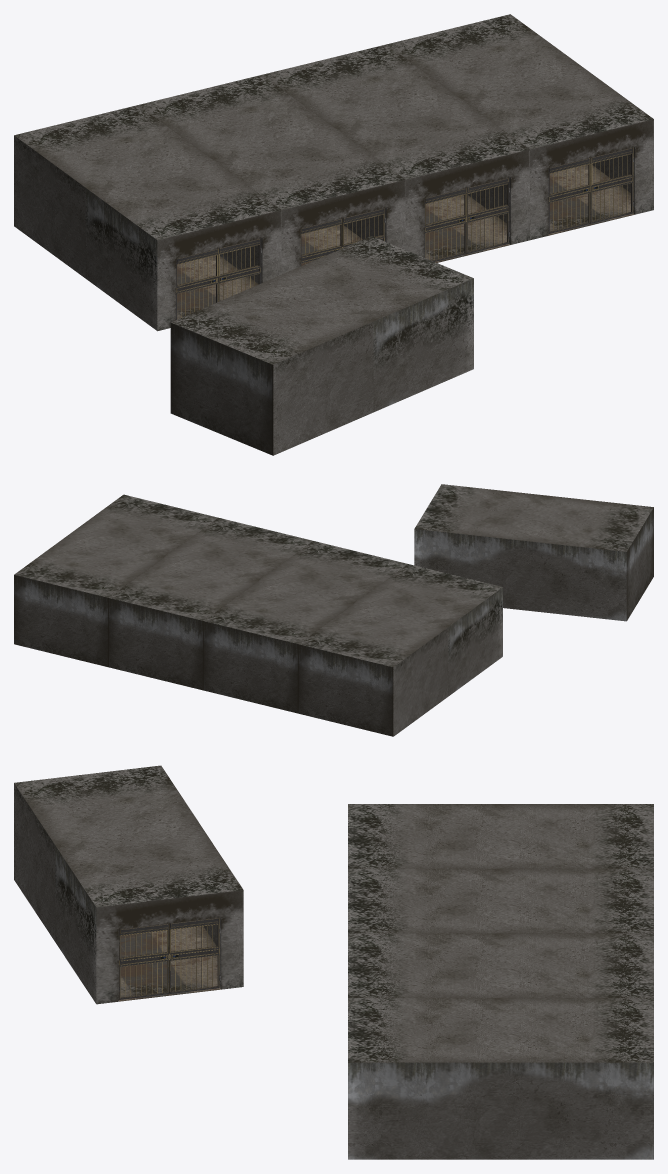
3 renders of one model, top to bottom at view 1: azimuth 30°, elevation 25°; view 2: azimuth 150°, elevation 25°; view 3: azimuth 270°, elevation 25°, orthographic. The views are drawn at different scales.
Visible parts, largest first — view 1: otagh_5, otagh, otagh_4, otagh_3, otagh_2, door_4, door_3, door, door_2; view 2: otagh_5, otagh, otagh_2, otagh_3, otagh_4; view 3: otagh_4, otagh_5, otagh_2, otagh, otagh_3, door_5.
Part boxes in pixels (left/top/right/bottom): otagh_5: left=170, top=236, right=473, bottom=455; otagh: left=14, top=105, right=281, bottom=331; otagh_4: left=386, top=14, right=653, bottom=240; otagh_3: left=262, top=44, right=529, bottom=262; otagh_2: left=138, top=75, right=405, bottom=283; door_4: left=548, top=147, right=633, bottom=233; door_3: left=424, top=177, right=508, bottom=261; door: left=176, top=238, right=260, bottom=319; door_2: left=300, top=208, right=384, bottom=265; otagh_5: left=414, top=484, right=653, bottom=621; otagh: left=298, top=564, right=502, bottom=736; otagh_2: left=203, top=541, right=407, bottom=713; otagh_3: left=109, top=517, right=312, bottom=690; otagh_4: left=14, top=494, right=217, bottom=667; otagh_4: left=348, top=998, right=653, bottom=1159; otagh_5: left=14, top=765, right=243, bottom=1004; otagh_2: left=348, top=868, right=653, bottom=933; otagh: left=348, top=804, right=653, bottom=868; otagh_3: left=348, top=933, right=653, bottom=997; door_5: left=119, top=917, right=219, bottom=999.
Bounding box in the file's own units: 23 × 3.5 × 20.93.
Materials: 2 (2 with a texture image).
